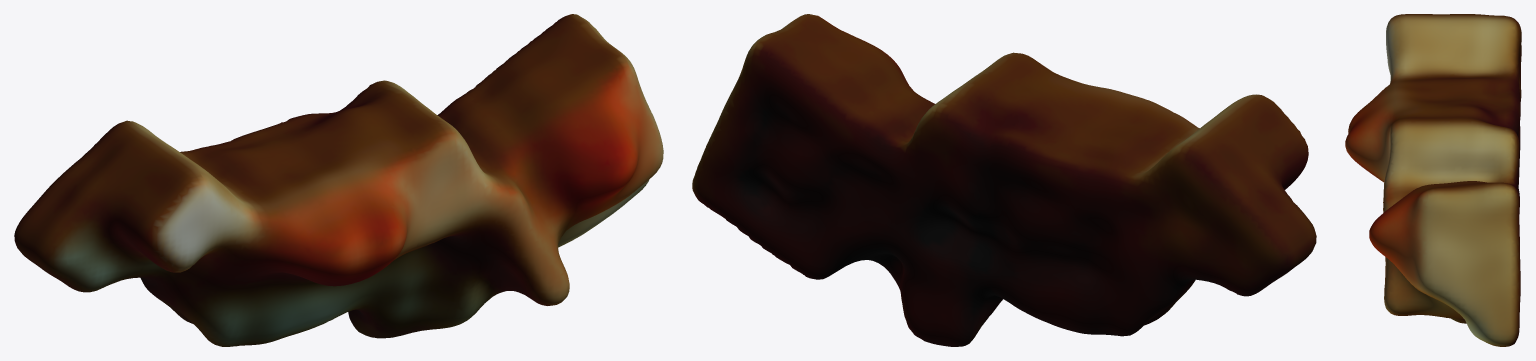
Rendered from blocks.glb.
The picture shows the model from 3 angles, left to right: view 1: azimuth 30°, elevation 25°; view 2: azimuth 150°, elevation 25°; view 3: azimuth 270°, elevation 25°; orthographic projection. The views are drawn at different scales.
Bounding box in the file's own units: 0.999 × 0.4201 × 0.3189.
